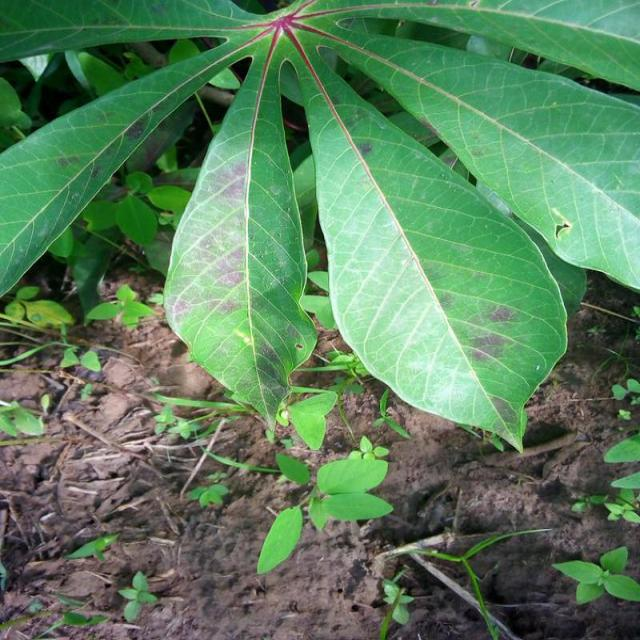cassava leaf: (0, 0, 638, 454), (282, 28, 570, 454), (162, 31, 318, 438)
